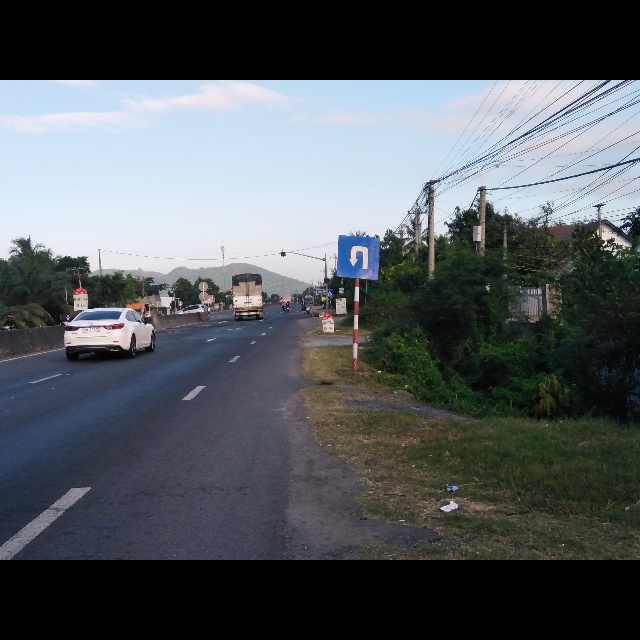Khu vực quay đầu xe: (337, 234, 381, 282)
